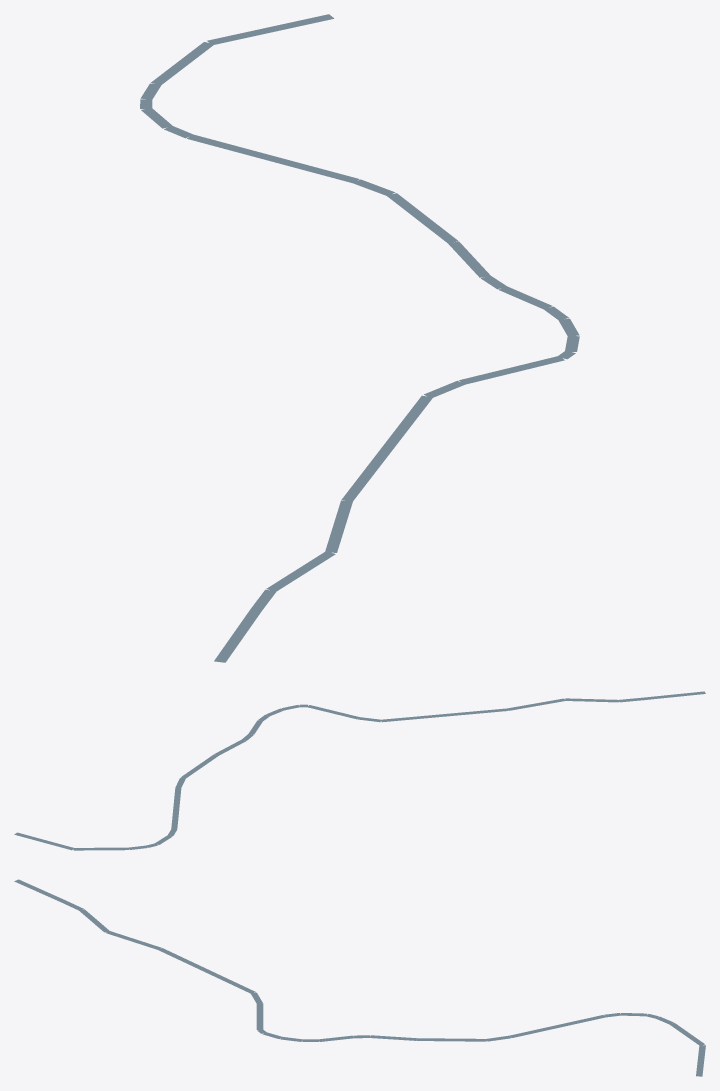
3 renders of one model, top to bottom at view 1: azimuth 30°, elevation 25°; view 2: azimuth 150°, elevation 25°; view 3: azimuth 270°, elevation 25°, orthographic. The views are drawn at different scales.
Bounding box in the file's own units: 283 × 0 × 420.
